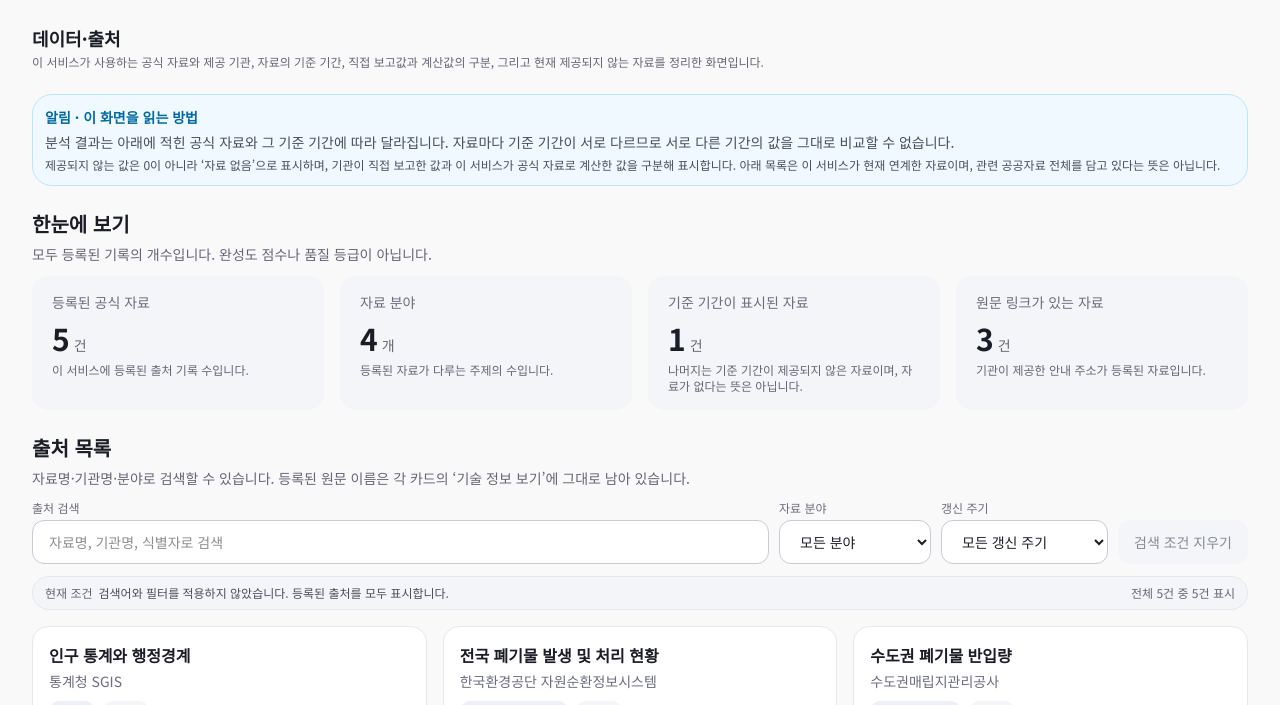
Test: source search › hides the clear control while the query is empty
The width and height of the screenshot is (1280, 705).
Type "a" into the search field with test id "transparency-search" at (400, 542), box [32,520,769,564]
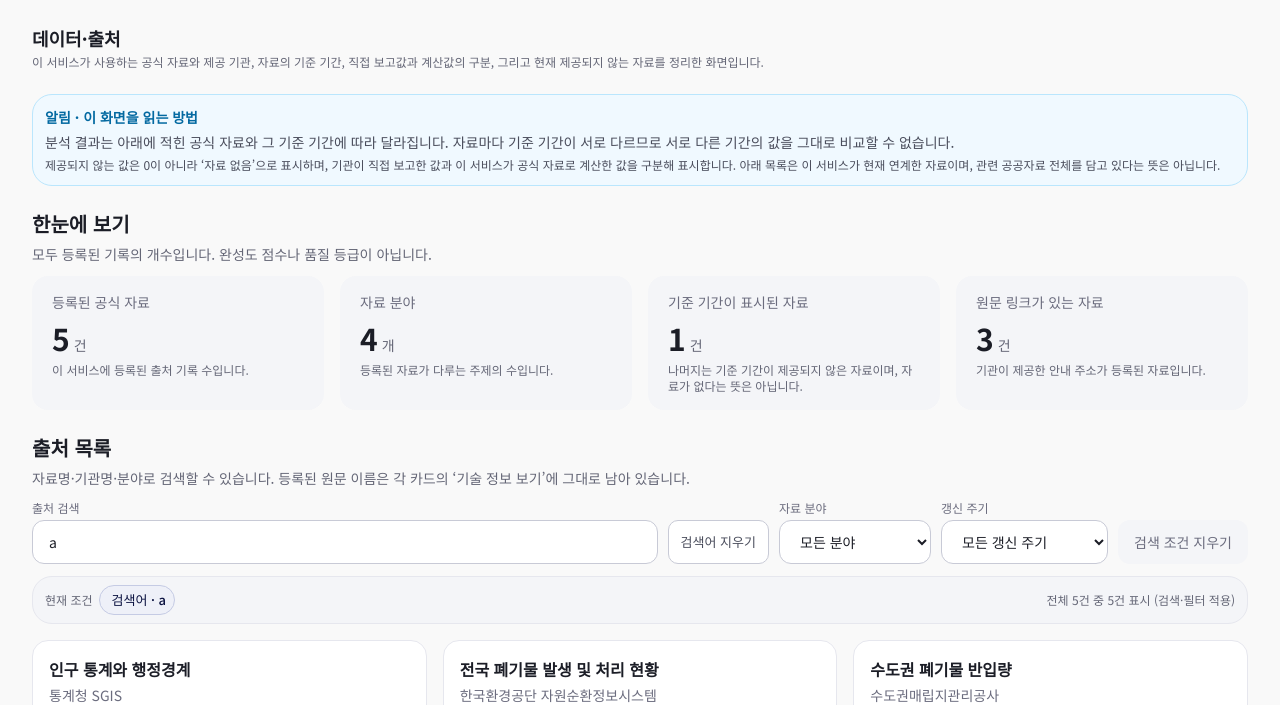
Check: the button with test id "transparency-search-clear" is shown, box [668,520,769,564]
